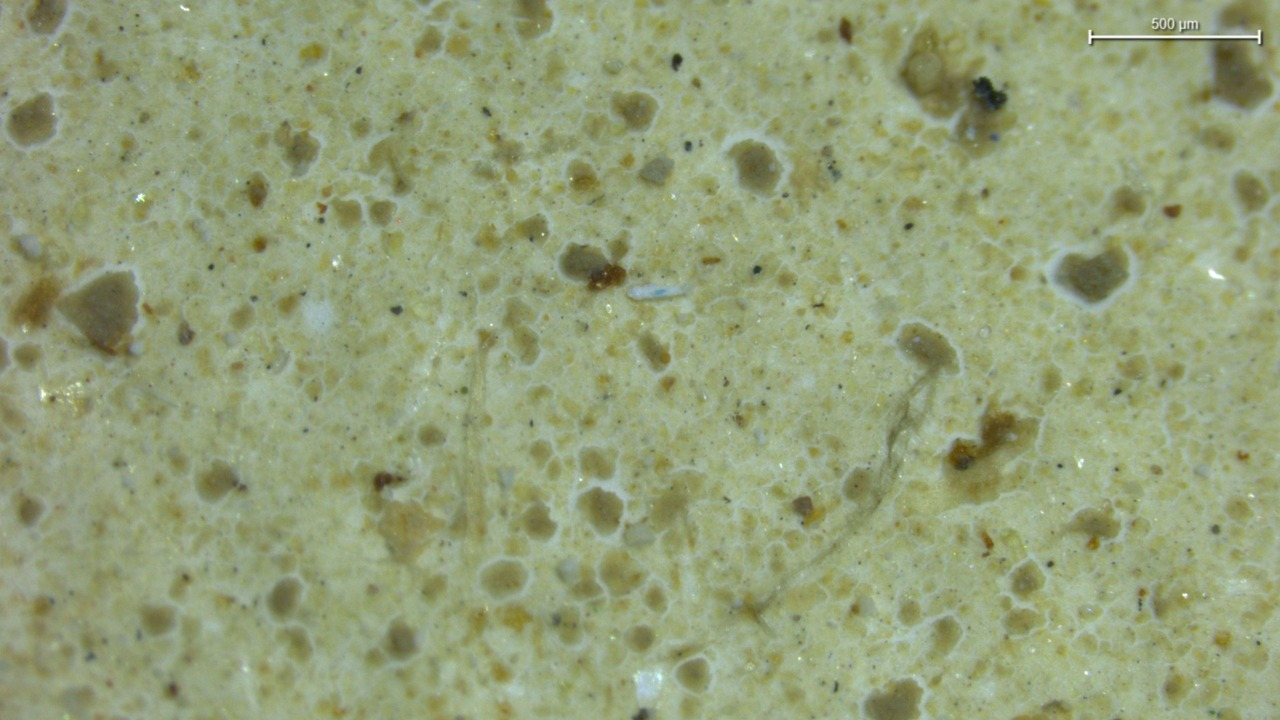microplastic_fragment: (627, 284, 688, 300)
